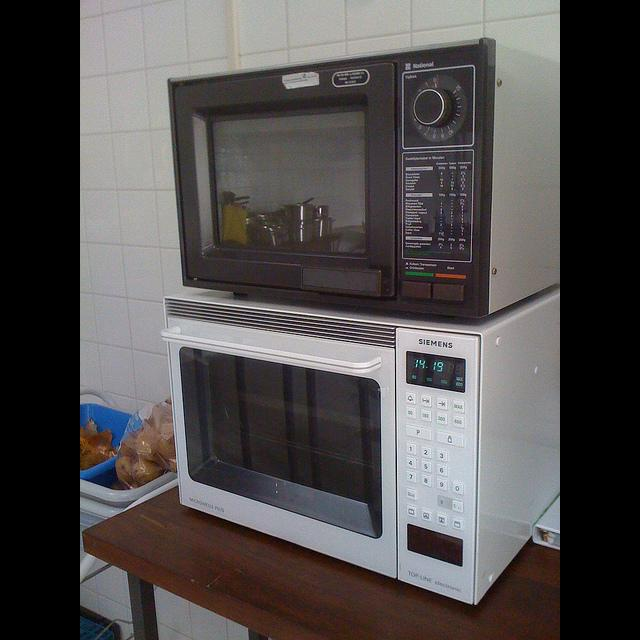Microwave: (165, 293, 559, 604), (166, 37, 560, 320)
